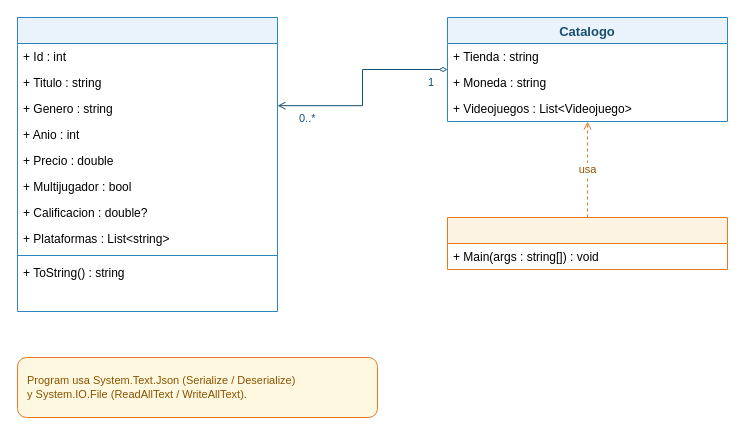
Image size: 745x435. Some labels were removed from this diagram. Here are the shapes that lost their labels. From the top down, the box of each, then its label:
(16, 16, 278, 312): Videojuego
(446, 216, 728, 270): Program
